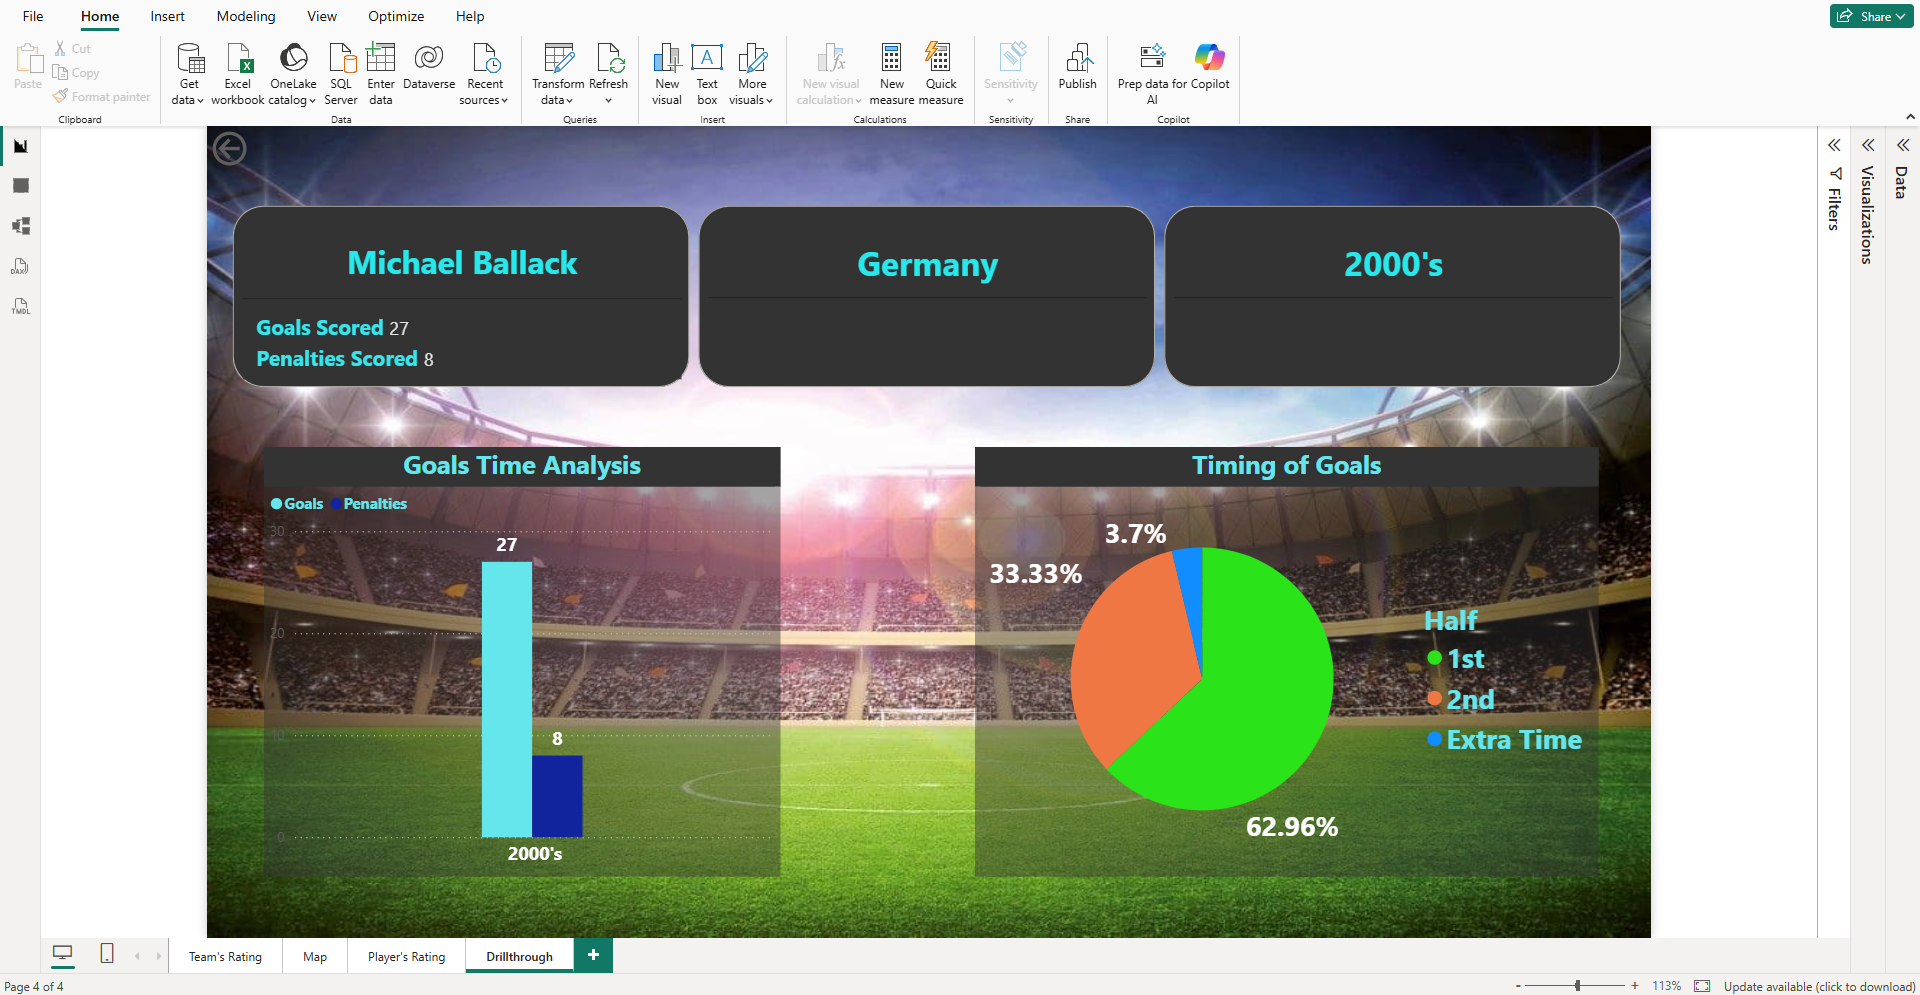

Layout of this report page (visuals, bound fields, positions):
{"tool":"powerbi","page":{"name":"Drillthrough","canvas":[1280,720],"ordinal":3},"visuals":[{"type":"cardVisual","fields":{"Data":["Min(goalscorers.scorer)","Min(goalscorers.team)","goalscorers.Years (SELECTEDVALUE)"]},"box":[17.3,65.9,1242.6,171.6],"z":0},{"type":"actionButton","box":[0,0,100,40],"z":1000},{"type":"clusteredColumnChart","title":"Goals Time Analysis","fields":{"Category":["goalscorers.Year Bins"],"Y":["goalscorers.Top Scorers (Measure)","goalscorers.Top Penalty Scorers"]},"box":[50.3,284.2,457.5,381.3],"z":3000},{"type":"pieChart","title":"Timing of Goals","fields":{"Category":["goalscorers.Half"],"Y":["goalscorers.Top Scorers (Measure)"]},"box":[681.1,284.2,552.8,381.3],"z":5000}]}

Visuals, with their boxes on the page's 1280x720 design canvas (x1, y1, x2, y2). These are canvas units, not pixel positions in the 1920x995 screenshot, which may show the page scaled, cropped or inside an application window:
cardVisual - Min(goalscorers.scorer) x Min(goalscorers.team): crop(17, 66, 1260, 238)
actionButton: crop(0, 0, 100, 40)
"Goals Time Analysis" clusteredColumnChart: crop(50, 284, 508, 666)
"Timing of Goals" pieChart: crop(681, 284, 1234, 666)
